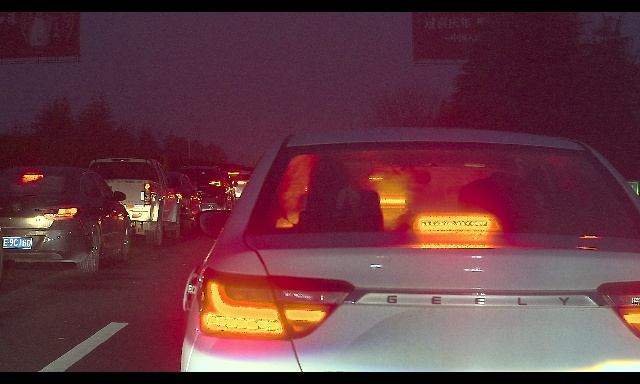car: (178, 127, 640, 372), (0, 166, 132, 273), (87, 157, 182, 246), (172, 165, 238, 223), (218, 170, 253, 203)
